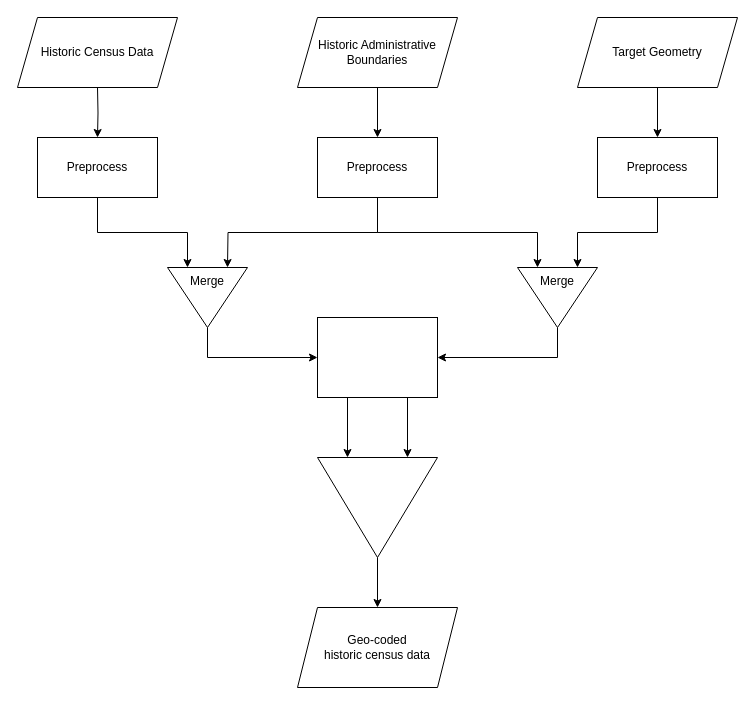
Image size: 755x705. Some labels were removed from this diagram. The shapes that lost their labels are listed below. From the top down, each one's centre as x and y in pixels, then its label:
At point (377, 357): "Geoblocking + fuzzy string comparison of addresses".
At point (377, 507): "Link matches".
